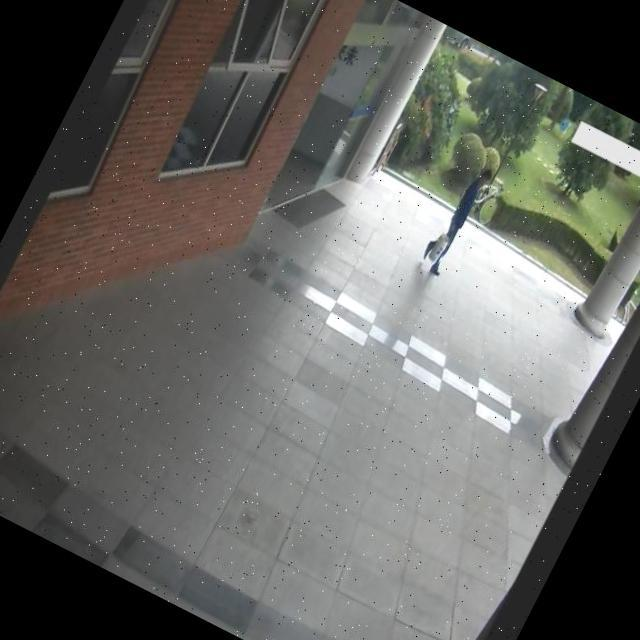person: (410, 153, 500, 286)
